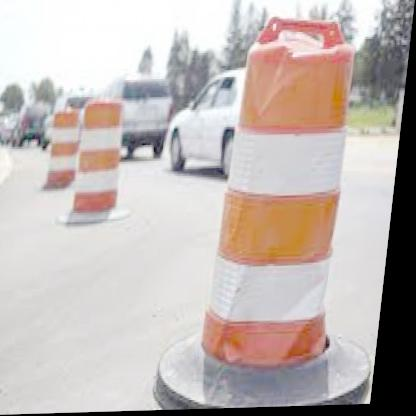obstacle: (198, 25, 365, 372)
